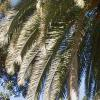Palm tree: (6, 2, 99, 95)
